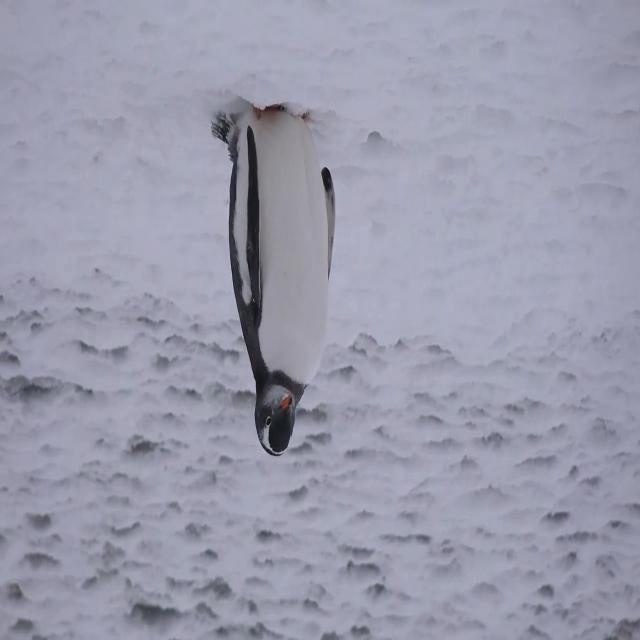penguin: (208, 95, 338, 457)
